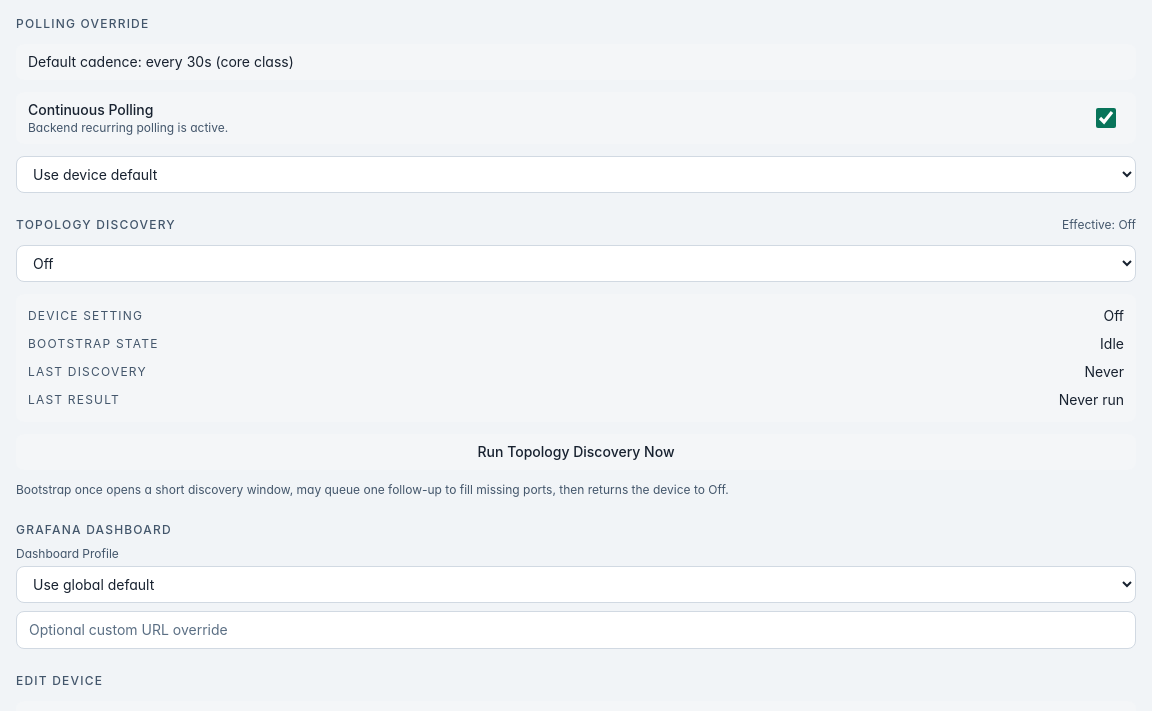
Test: DeviceConfigPanel › runs topology discovery manually and shows feedback
Step 1. Click the button "Run Topology Discovery Now" → point(576, 452), box [16,434,1136,470]
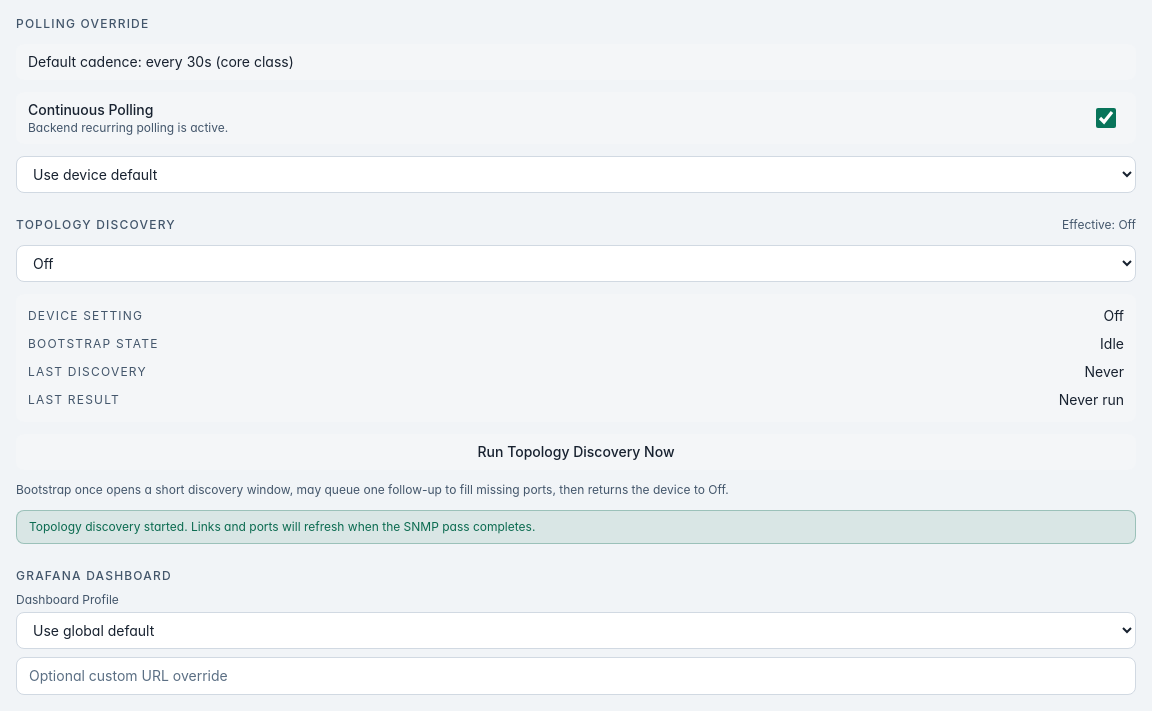
Expected: the text "Topology discovery started. Links and ports will refresh when the SNMP pass completes." is shown, [29,519,535,534]
